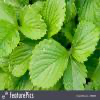Strawberry leaf: (27, 37, 71, 89), (71, 20, 100, 62), (17, 6, 49, 39), (62, 55, 87, 91)
